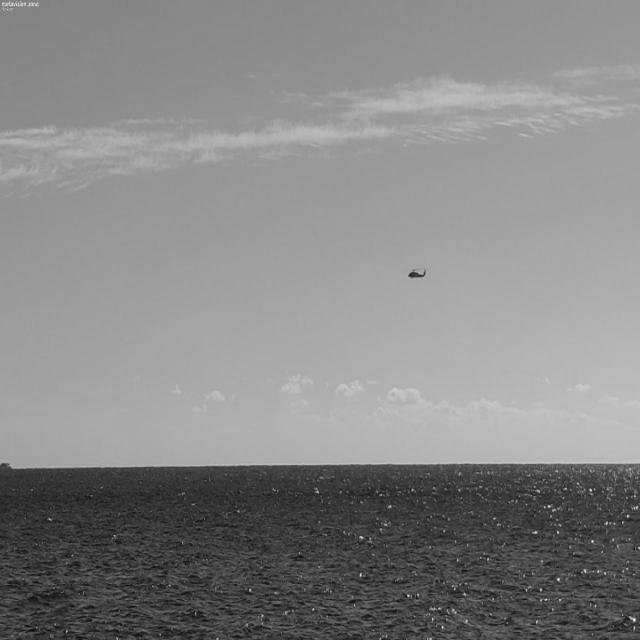helikopter: (386, 242, 454, 308)
